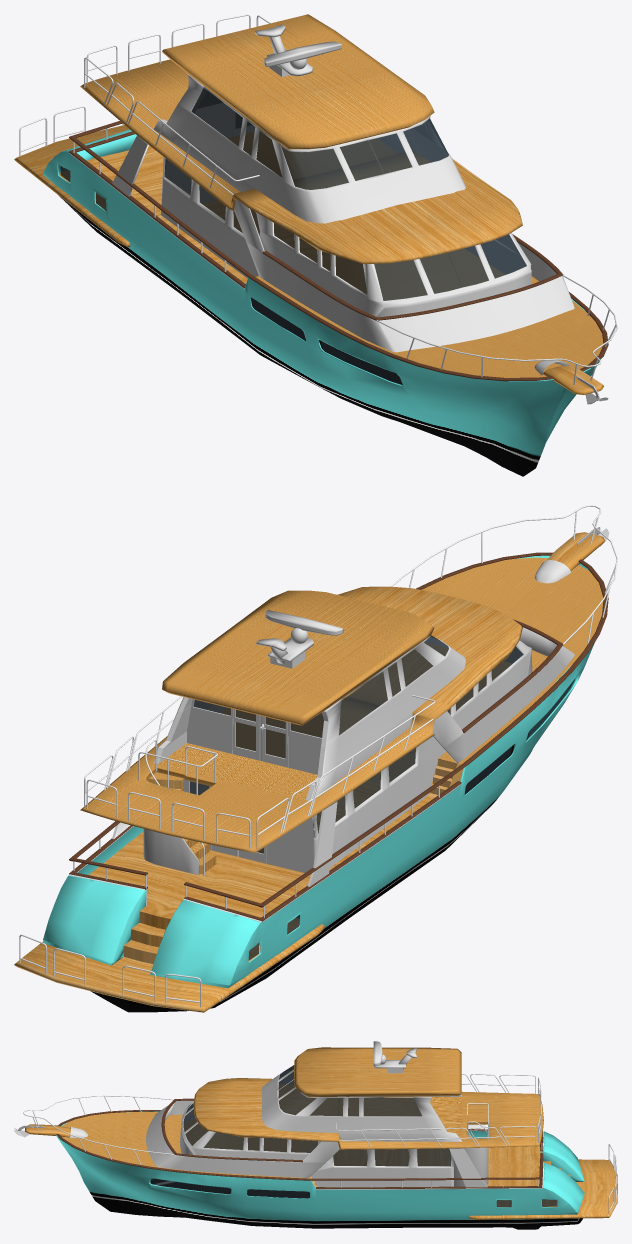
File: Marlow66.obj
3 renders of one model, top to bottom at view 1: azimuth 30°, elevation 25°; view 2: azimuth 150°, elevation 25°; view 3: azimuth 270°, elevation 25°, orthographic. The views are drawn at different scales.
Visible parts, largest first — view 1: Hull_Plane, Cabin_Cube, FloorSecond_Cube.002, FloorTop_Cube.003, CabinTop_Cube.001, FloorFirst_Plane.002, TopCabinWindows_Cube.005, Cabin.Windows_Cube.004, DarkWoodTrim_BezierCurve.027, HullBottom_Plane.003, Platform_Plane.001, ChromeHandRailsSide_BezierCurve.035 (+5 smaller); view 2: Hull_Plane, FloorSecond_Cube.002, FloorTop_Cube.003, Cabin_Cube, HullBottom_Plane.003, FloorFirst_Plane.002, BackWalls_Plane.014, CabinTop_Cube.001, Platform_Plane.001, DarkWoodTrim_BezierCurve.027, ChromeHandRailsSide_BezierCurve.035, TopCabinWindows_Cube.005 (+9 smaller); view 3: Hull_Plane, FloorSecond_Cube.002, Cabin_Cube, FloorTop_Cube.003, CabinTop_Cube.001, FloorFirst_Plane.002, HullBottom_Plane.003, Cabin.Windows_Cube.004, DarkWoodTrim_BezierCurve.027, Platform_Plane.001, TopCabinWindows_Cube.005, ChromeHandRailsSide_BezierCurve.035 (+6 smaller).
Boxes of the visible parts, x1,y1,x2,y2 form: Hull_Plane: (43, 129, 601, 476); Cabin_Cube: (112, 135, 574, 375); FloorSecond_Cube.002: (80, 59, 522, 264); FloorTop_Cube.003: (162, 14, 434, 149); CabinTop_Cube.001: (154, 74, 465, 223); FloorFirst_Plane.002: (255, 249, 603, 377); TopCabinWindows_Cube.005: (191, 88, 448, 189); Cabin.Windows_Cube.004: (164, 159, 526, 300); DarkWoodTrim_BezierCurve.027: (69, 121, 608, 381); HullBottom_Plane.003: (87, 145, 337, 298); Platform_Plane.001: (14, 125, 130, 247); ChromeHandRailsSide_BezierCurve.035: (84, 15, 617, 384); Hull_Plane: (43, 555, 594, 1012); FloorSecond_Cube.002: (80, 586, 522, 852); FloorTop_Cube.003: (162, 590, 434, 725); Cabin_Cube: (112, 560, 574, 886); HullBottom_Plane.003: (89, 752, 463, 964); FloorFirst_Plane.002: (411, 557, 603, 764); BackWalls_Plane.014: (183, 699, 323, 874); CabinTop_Cube.001: (154, 636, 465, 800); Platform_Plane.001: (14, 918, 325, 1012); DarkWoodTrim_BezierCurve.027: (69, 552, 608, 921); ChromeHandRailsSide_BezierCurve.035: (84, 505, 617, 849); TopCabinWindows_Cube.005: (339, 635, 448, 734); Hull_Plane: (56, 1111, 584, 1228); FloorSecond_Cube.002: (193, 1078, 543, 1149); Cabin_Cube: (70, 1100, 487, 1187); FloorTop_Cube.003: (294, 1047, 461, 1096); CabinTop_Cube.001: (261, 1069, 461, 1141); FloorFirst_Plane.002: (62, 1111, 309, 1178); HullBottom_Plane.003: (309, 1138, 570, 1187); Cabin.Windows_Cube.004: (183, 1103, 451, 1166); DarkWoodTrim_BezierCurve.027: (56, 1098, 543, 1188); Platform_Plane.001: (468, 1159, 617, 1219); TopCabinWindows_Cube.005: (278, 1065, 421, 1116); ChromeHandRailsSide_BezierCurve.035: (23, 1073, 535, 1164).
Bounding box in the file's own units: 5.67 × 7.28 × 22.48.
